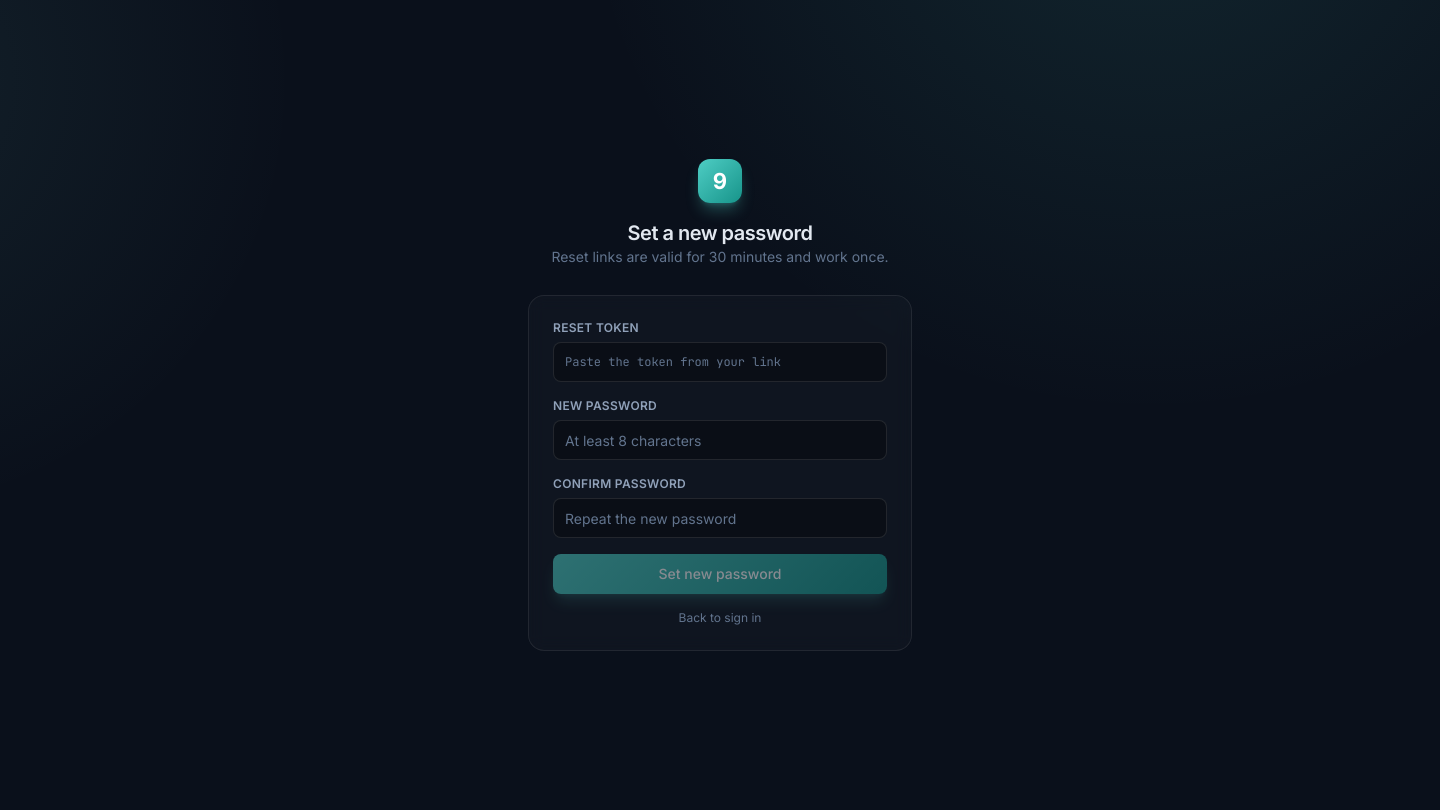
Scenario: ResetPassword › rejects a too-short value locally
The image size is (1440, 810).
In the field with placeholder "Paste the token from your link": [720, 362] box [553,342,887,382], type "token-1234567890abcdef"
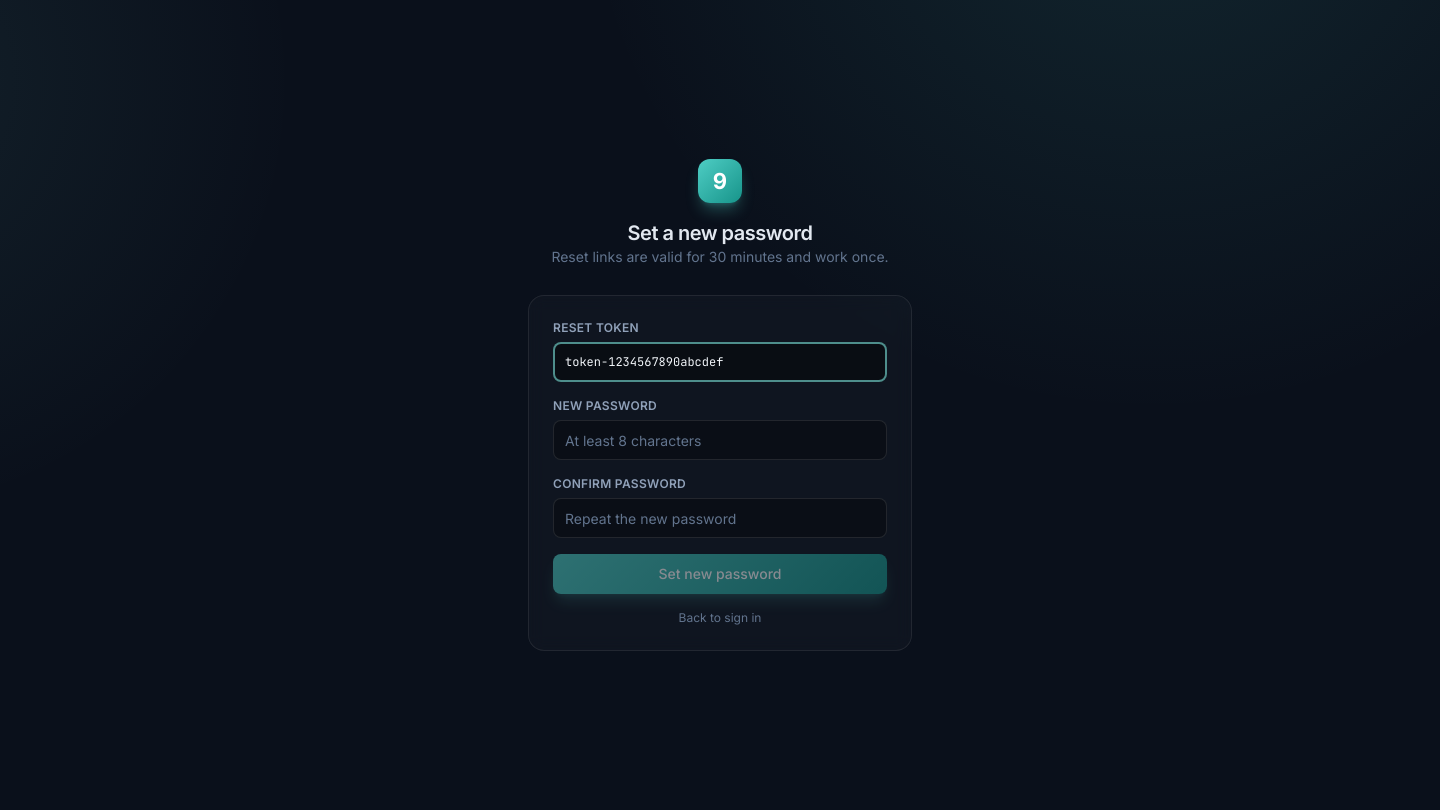
In the password field with placeholder "At least 8 characters": [720, 440] box [553,420,887,460], type "short"
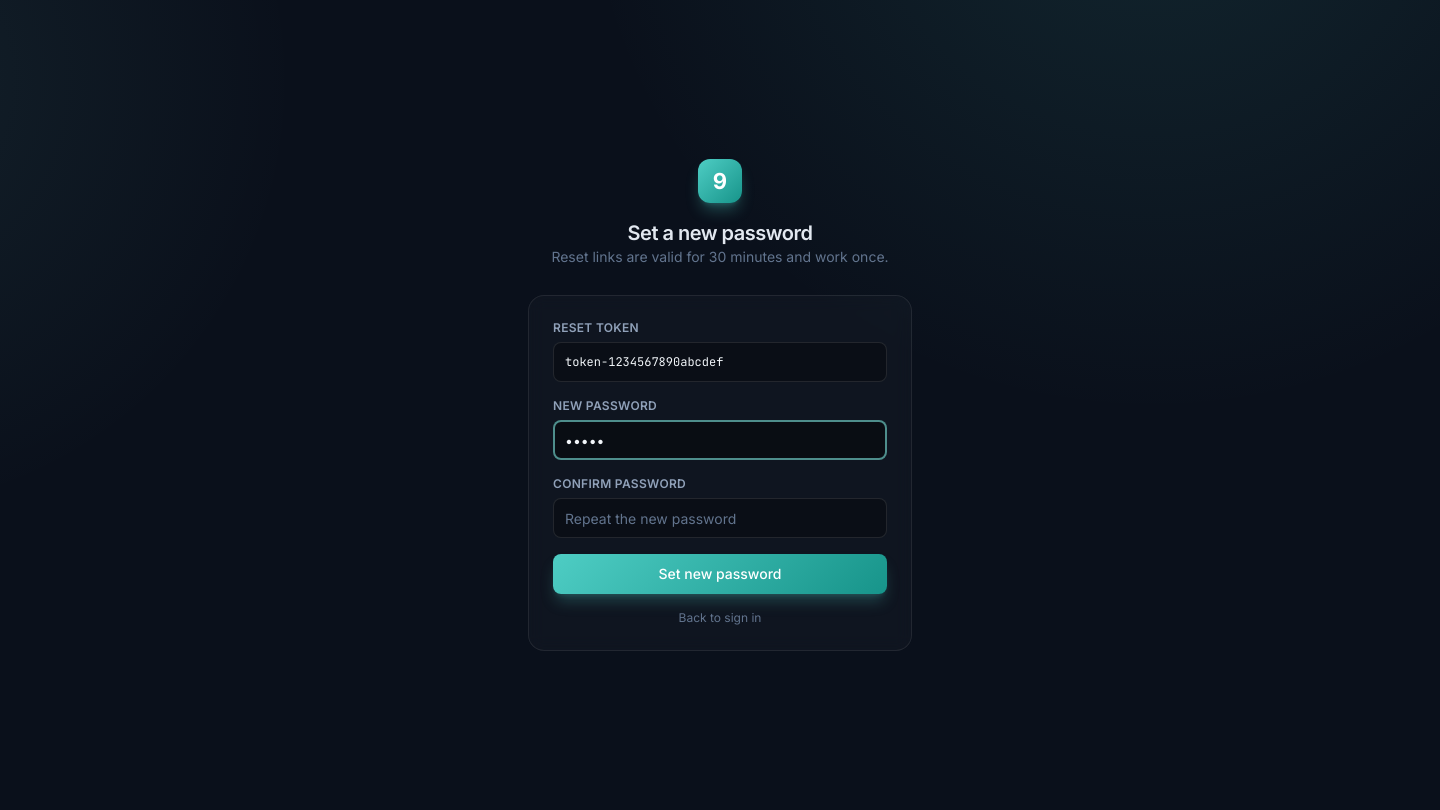
In the password field with placeholder "Repeat the new password": [720, 518] box [553,498,887,538], type "short"
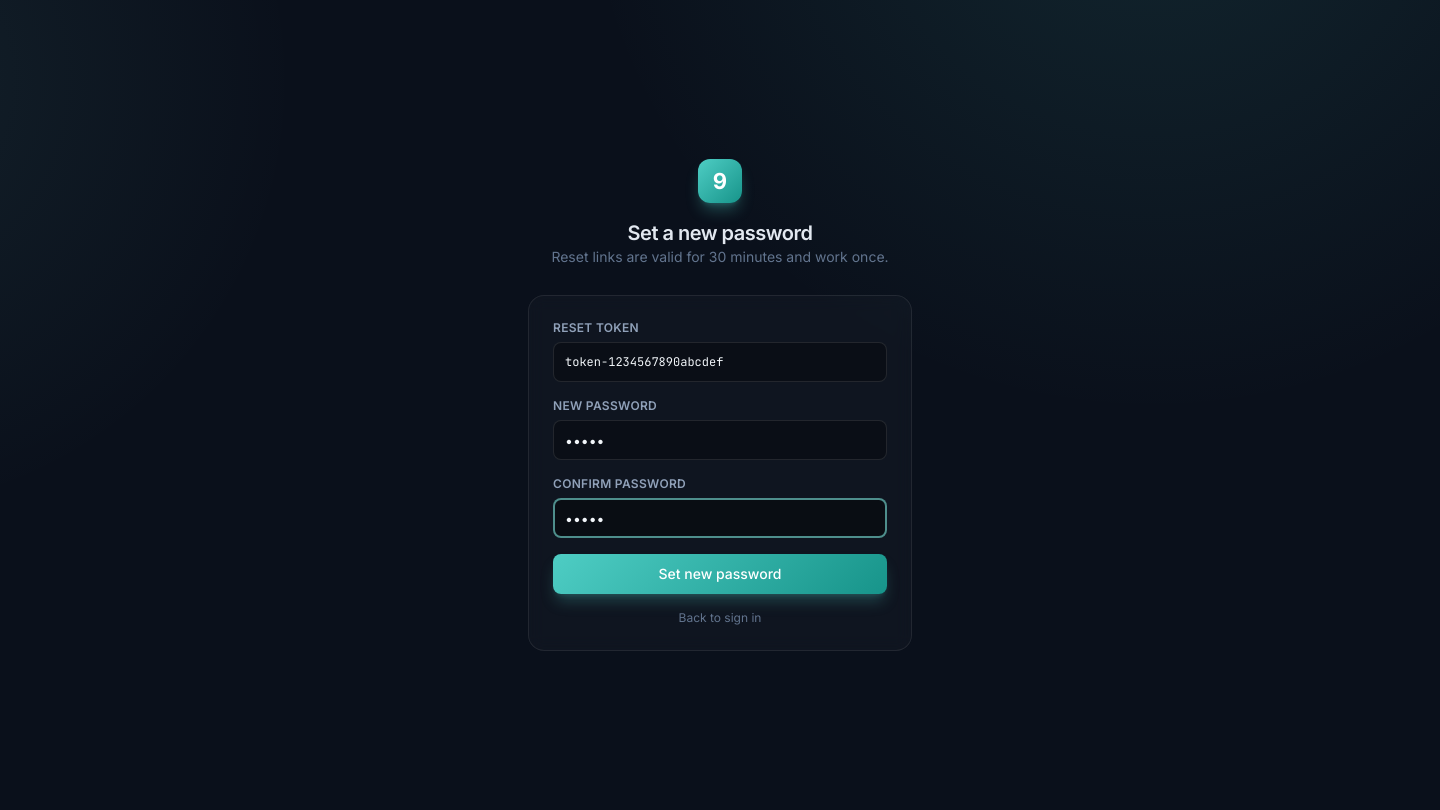
Click the button "Set new password": [720, 574] box [553,554,887,594]
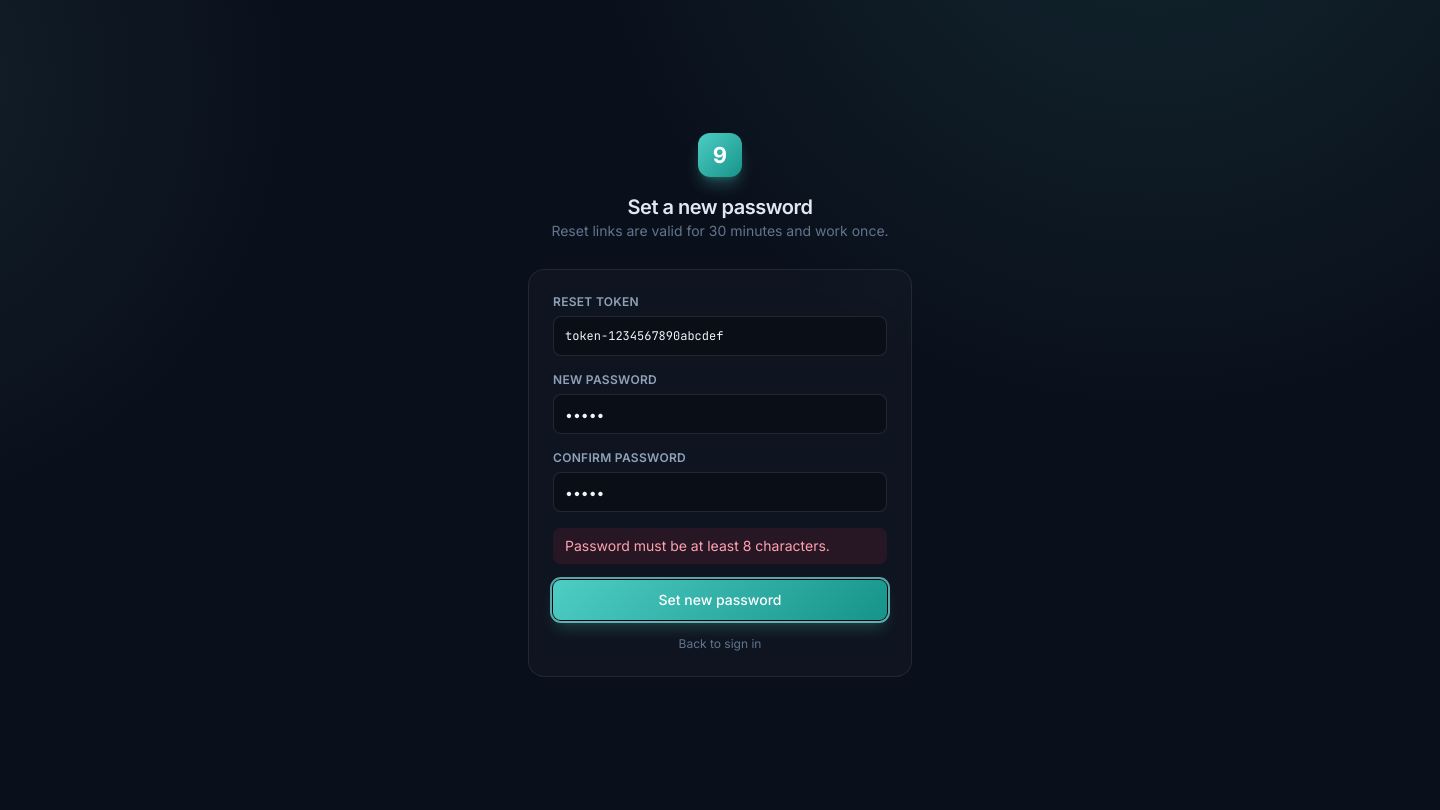
Check: the text "Password must be at least 8 characters." is shown, box [553,528,887,564]
